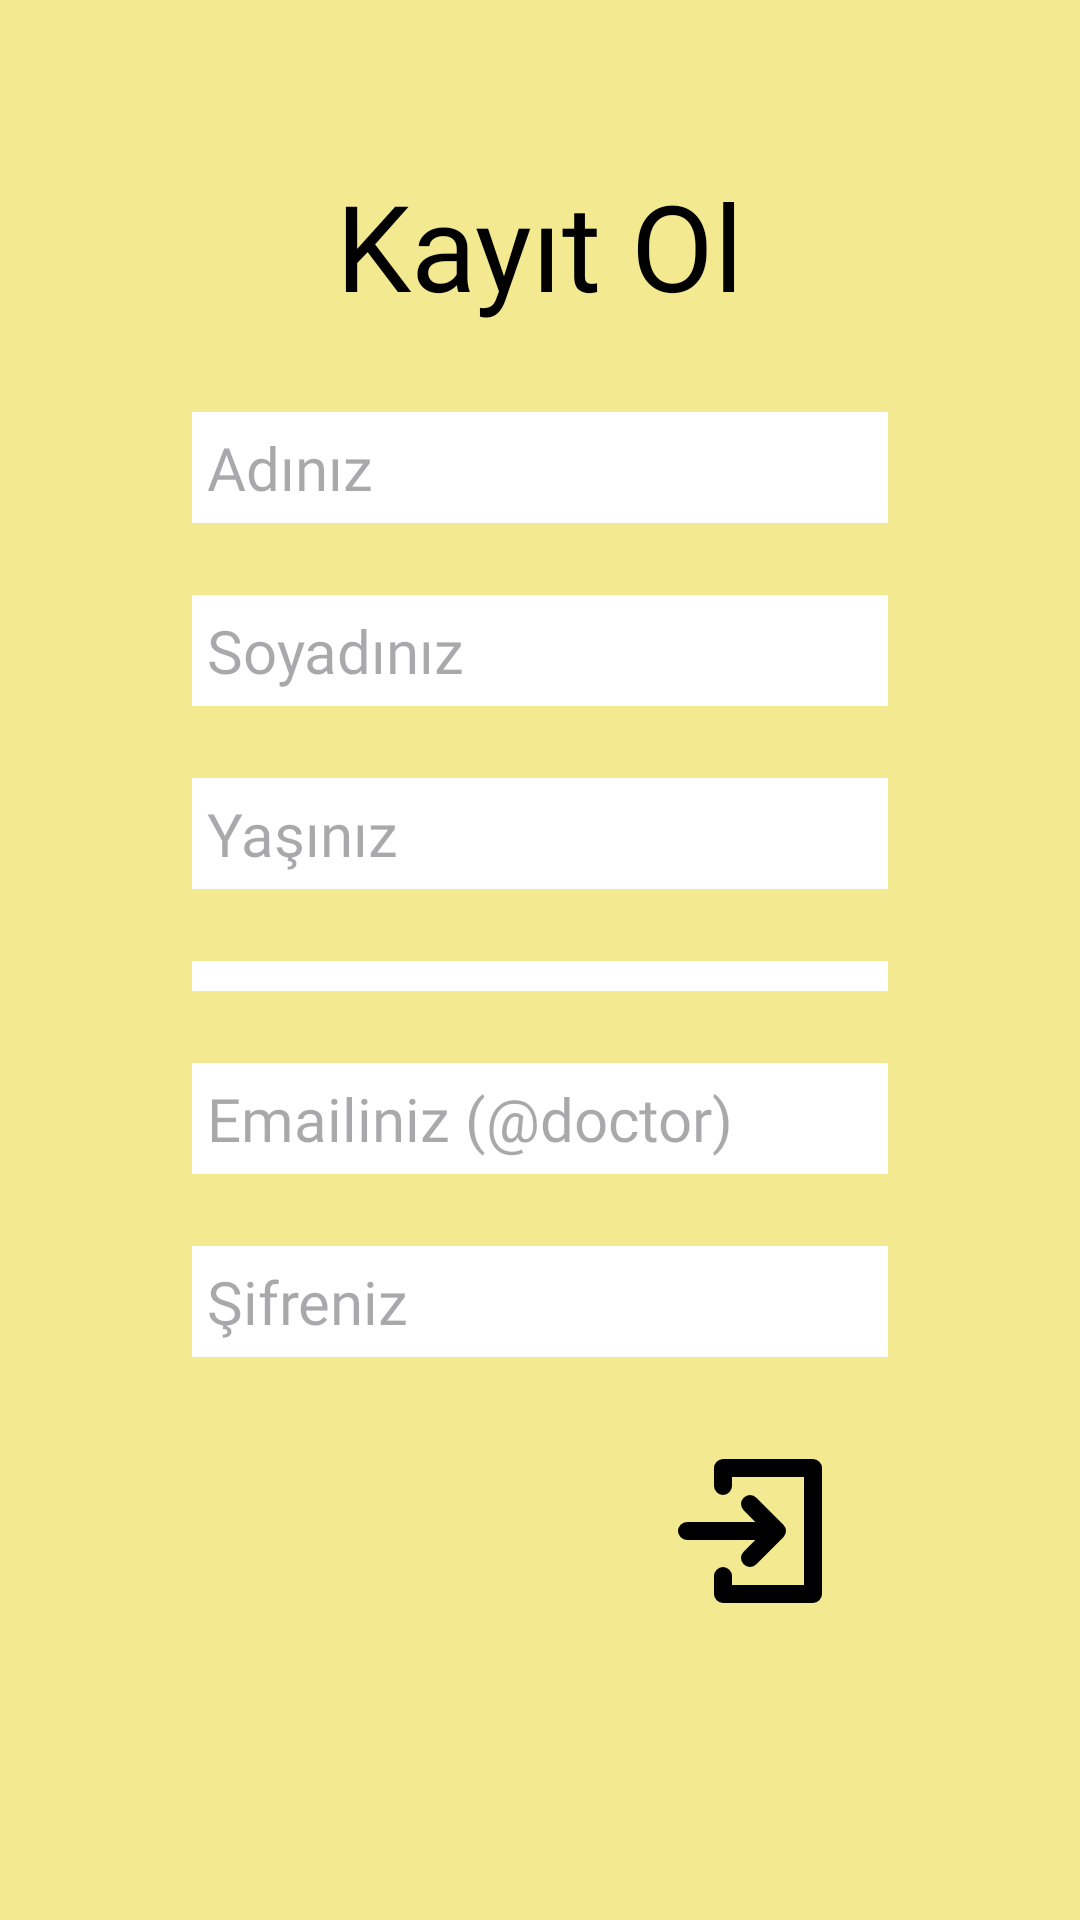

Icon bounding boxes for this 1080*1920 phone screenshot, format (left=x1, top=y1, right=x2, bottom=y2):
login: (left=678, top=1459, right=822, bottom=1603)
